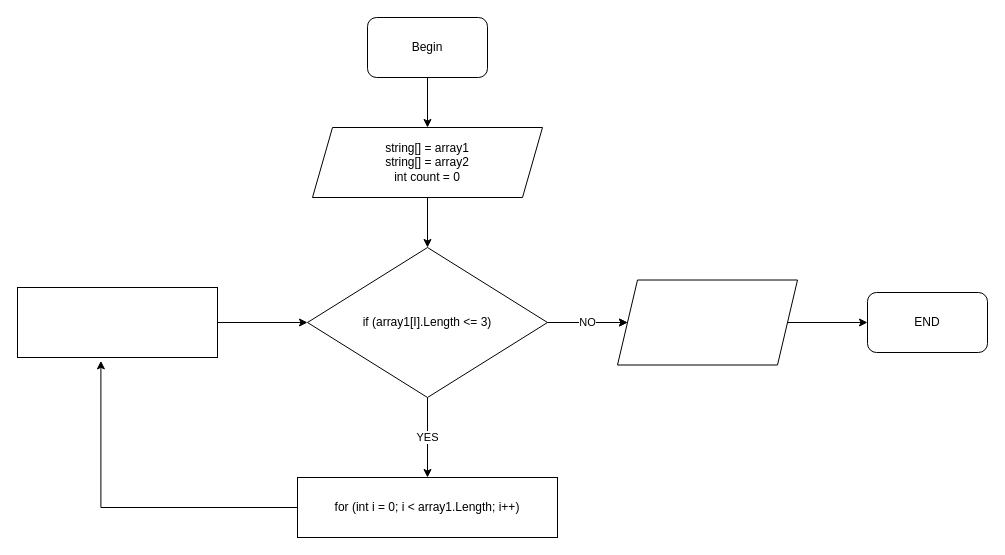
The diagram is 1005 pixels wide and 555 high, and some of its shapes have lost their labels. The centre of each missing label's shape, as x and y in pixels:
"array2[count] = array1[i] count++;" goes at point 117,322.
"print string[] = array 2" goes at point 707,322.
